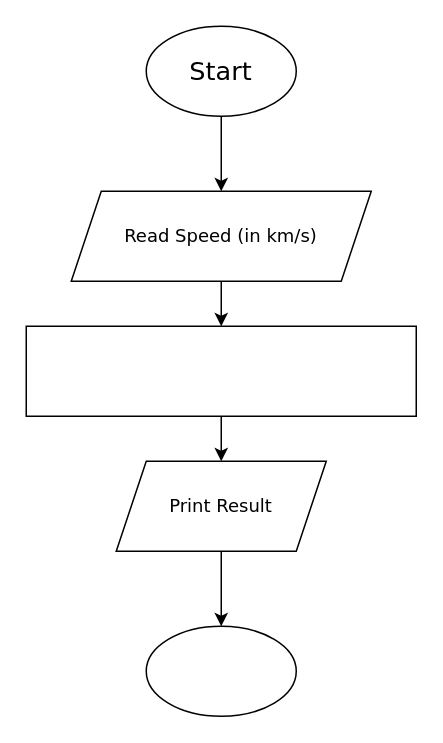
This 443x743 diagram has some shape labels left out. The shapes that lost their labels are listed below. From the top down, each one's box as (x1, y1, x2, y2) in pixels, then its label:
(25, 325, 416, 416): Result = Speed * 60 * 60 / 1.609344
(145, 625, 296, 716): End
